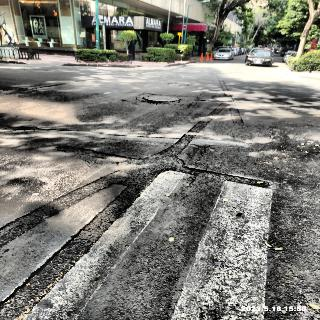alligator-crack: (142, 100, 170, 105)
crack: (190, 143, 210, 161), (79, 157, 92, 169), (94, 158, 108, 166), (180, 102, 194, 109)
pothole: (57, 145, 137, 163)
